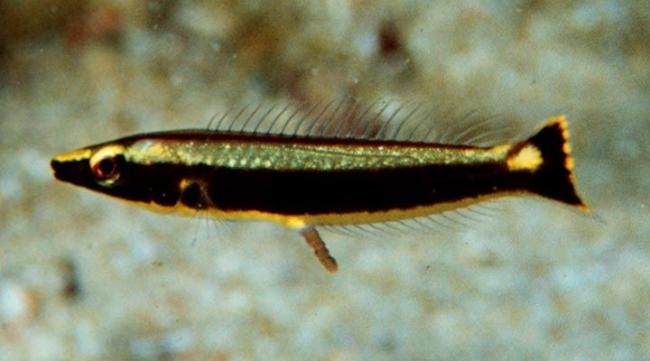fish: (49, 98, 592, 276)
